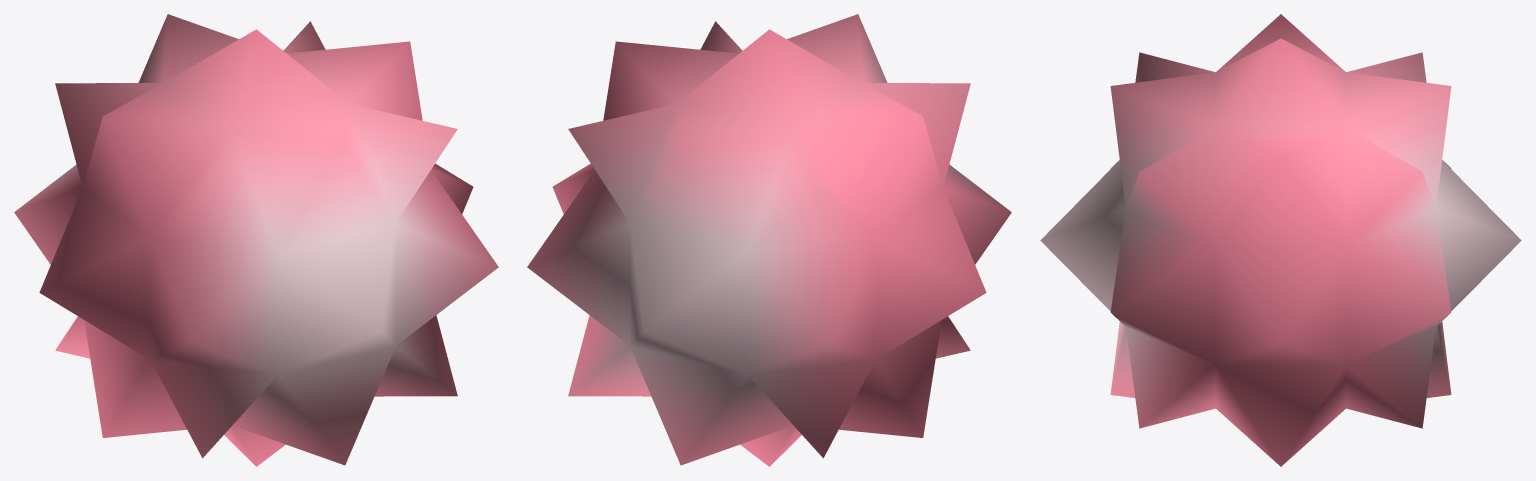
Rendered from Doll_OB_Candy_002.FBX.
The picture shows the model from 3 angles, left to right: view 1: azimuth 30°, elevation 25°; view 2: azimuth 150°, elevation 25°; view 3: azimuth 270°, elevation 25°; orthographic projection. The views are drawn at different scales.
Parts seen in each view (by area): view 1: Doll_OB_Candy_002; view 2: Doll_OB_Candy_002; view 3: Doll_OB_Candy_002.
Part boxes in pixels (left/top/right/bottom): Doll_OB_Candy_002: left=14, top=14, right=498, bottom=466; Doll_OB_Candy_002: left=527, top=14, right=1011, bottom=466; Doll_OB_Candy_002: left=1040, top=14, right=1521, bottom=466.
Size of the model in its own units: 3.01 by 2.9 by 3.01.
